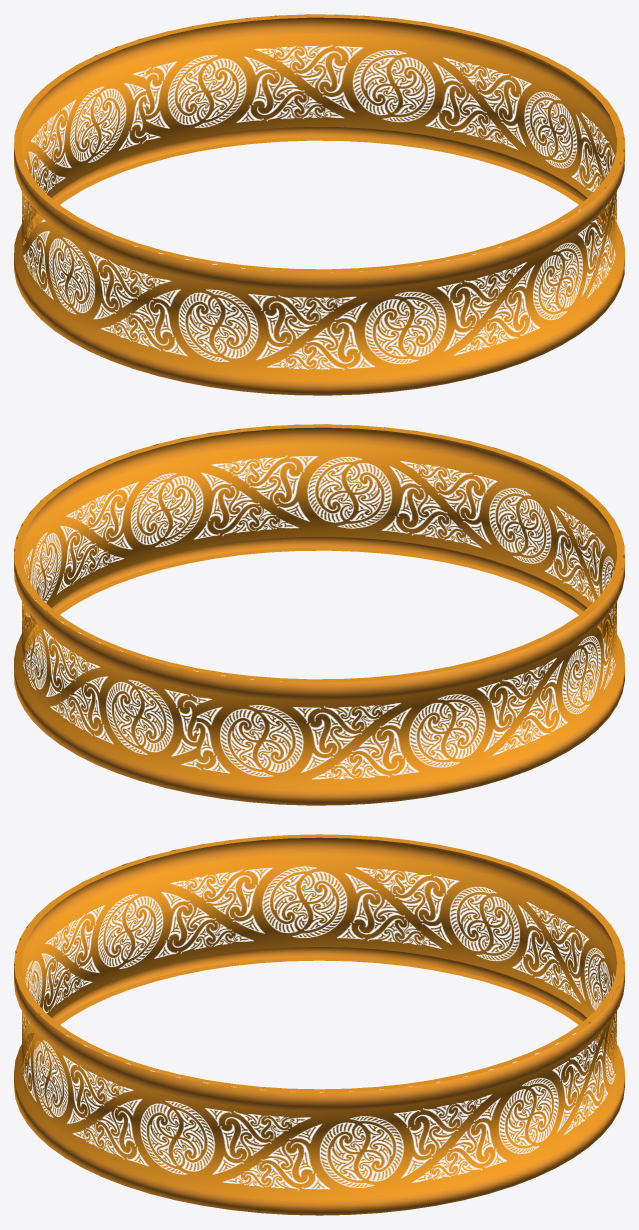
Rendered from Bracelet.glb.
3 renders of one model, top to bottom at view 1: azimuth 30°, elevation 25°; view 2: azimuth 150°, elevation 25°; view 3: azimuth 270°, elevation 25°, orthographic.
Visible parts, largest first — view 1: Cylinder; view 2: Cylinder; view 3: Cylinder.
Part boxes in pixels (x1,y1,x2,y2): Cylinder: (14, 14, 624, 395); Cylinder: (14, 424, 624, 805); Cylinder: (14, 834, 624, 1215).
Size of the model in its own units: 2.05 by 0.4559 by 2.05.
Materials: 2 (1 with a texture image).
